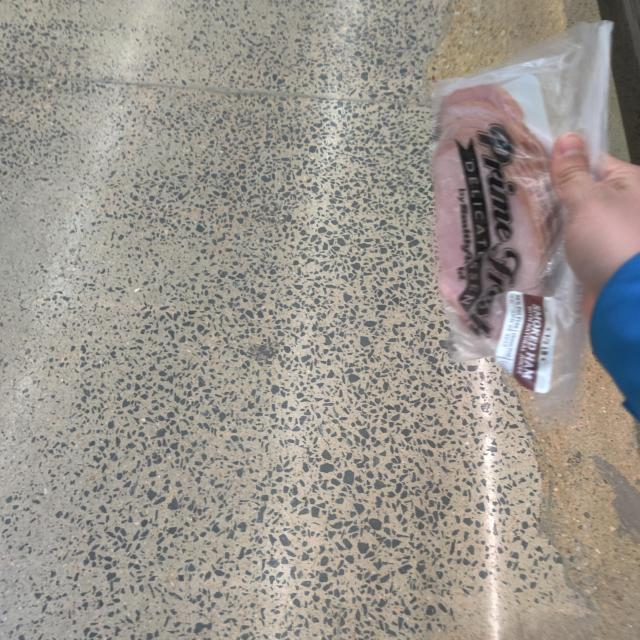Meat: (423, 47, 614, 396)
